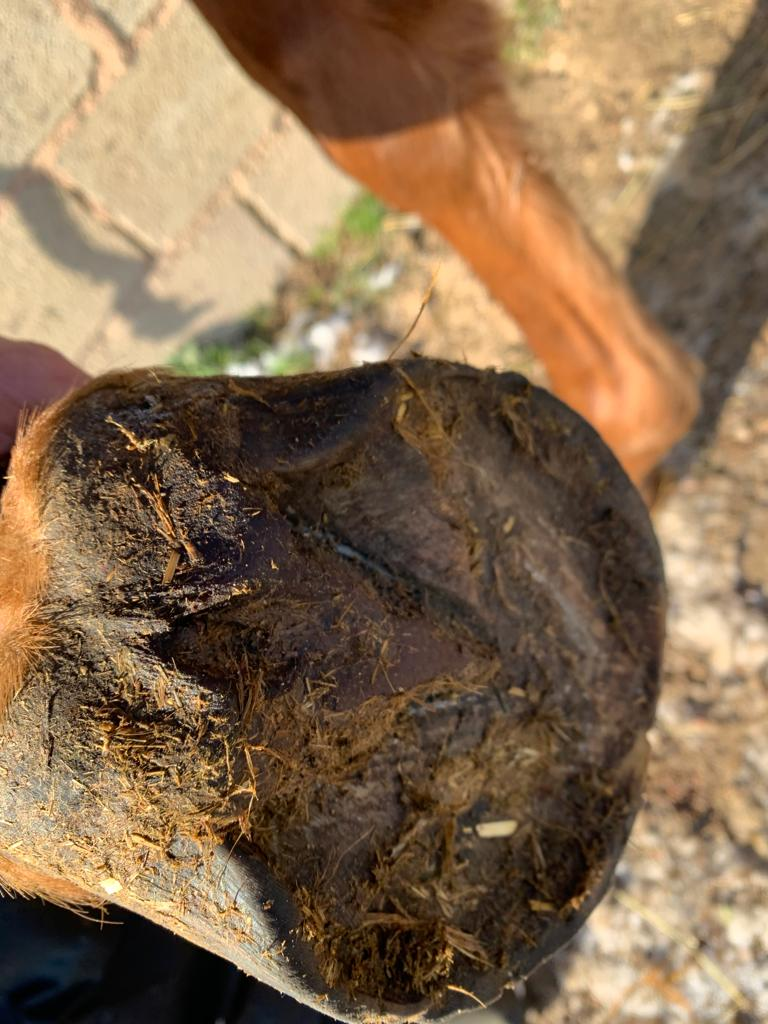horsesole: (192, 355, 669, 1024)
